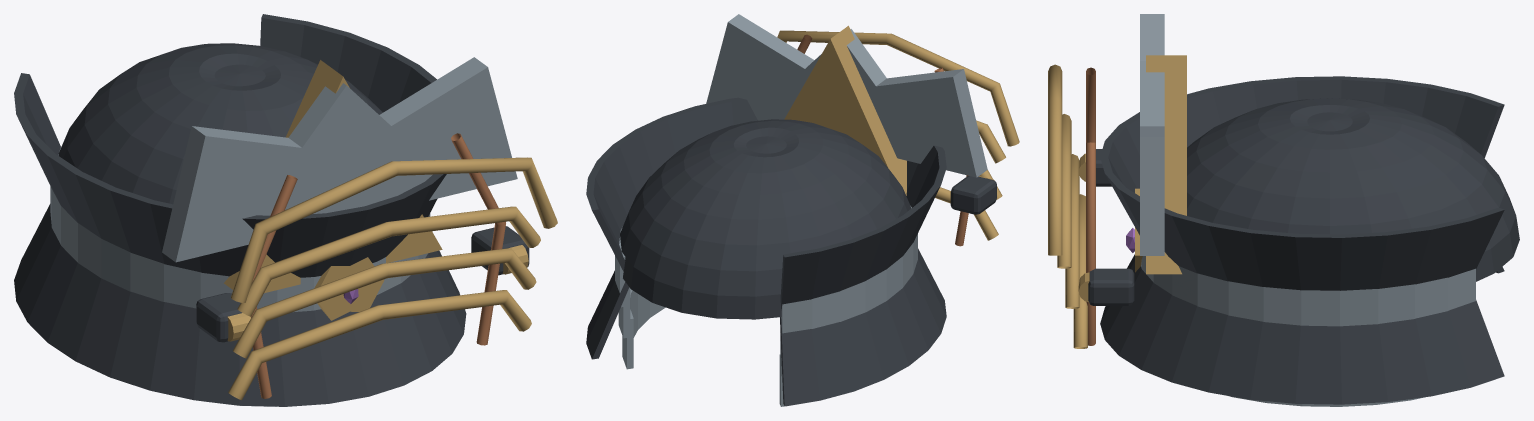
3 renders of one model, left to right at view 1: azimuth 30°, elevation 25°; view 2: azimuth 150°, elevation 25°; view 3: azimuth 270°, elevation 25°, orthographic. The views are drawn at different scales.
Visible parts, largest first — view 1: TV-110 Edran Kael — Founder Left pauldron; view 2: TV-110 Edran Kael — Founder Left pauldron; view 3: TV-110 Edran Kael — Founder Left pauldron.
Part boxes in pixels (left/top/right/bottom): TV-110 Edran Kael — Founder Left pauldron: left=14, top=14, right=557, bottom=406; TV-110 Edran Kael — Founder Left pauldron: left=586, top=14, right=1019, bottom=406; TV-110 Edran Kael — Founder Left pauldron: left=1048, top=14, right=1519, bottom=406.
Size of the model in its own units: 0.3745 by 0.31 by 0.4619.
